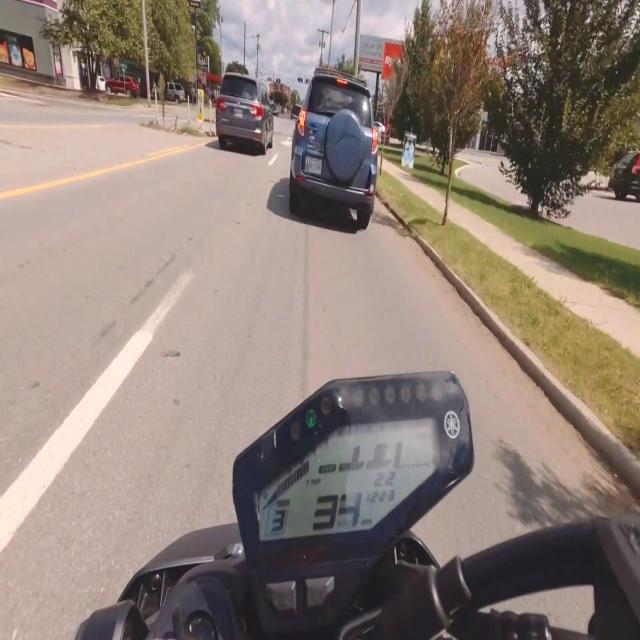car: (289, 68, 378, 229), (216, 72, 273, 154), (166, 82, 185, 103), (291, 105, 301, 119)
motorcycle: (76, 373, 639, 639)
